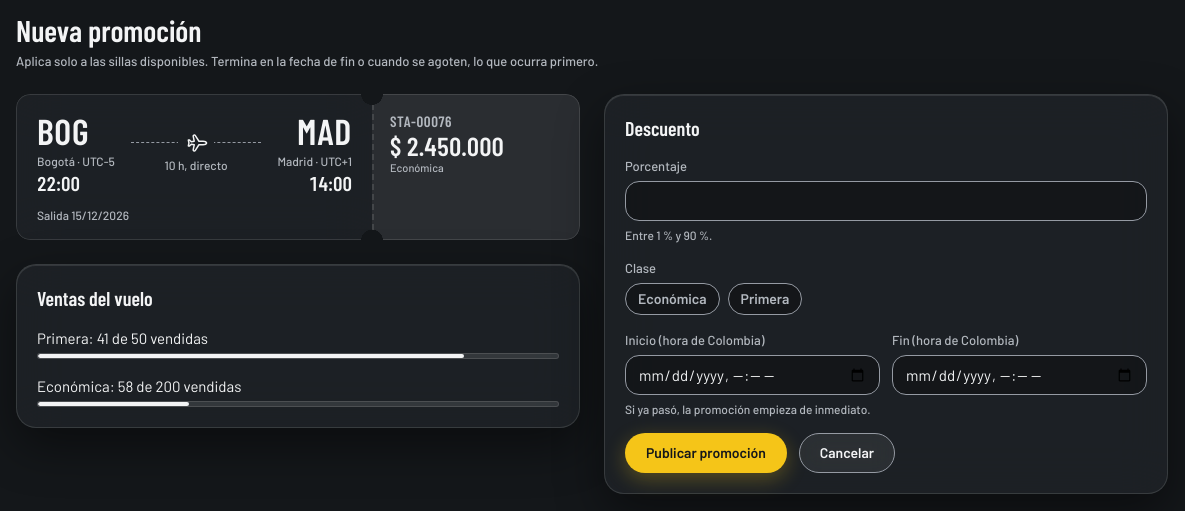
Test: S11 · Nueva promoción (HU-17) › rechaza un porcentaje de 0 junto al campo y no guarda
The image size is (1185, 511).
Check: the heading "Nueva promoción" is shown, box x1=16 y1=12 x2=202 y2=48
Type "0" into the field labelled "Porcentaje". click: (886, 201)
box: x1=625 y1=181 x2=1147 y2=221
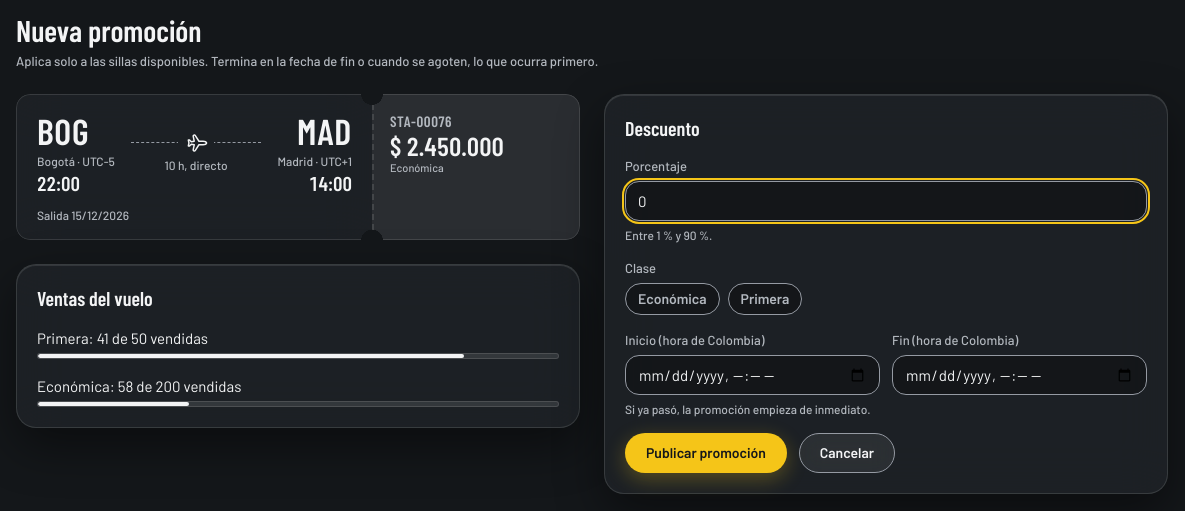
Click the button "Económica". click: (672, 299)
box: x1=625 y1=283 x2=720 y2=315
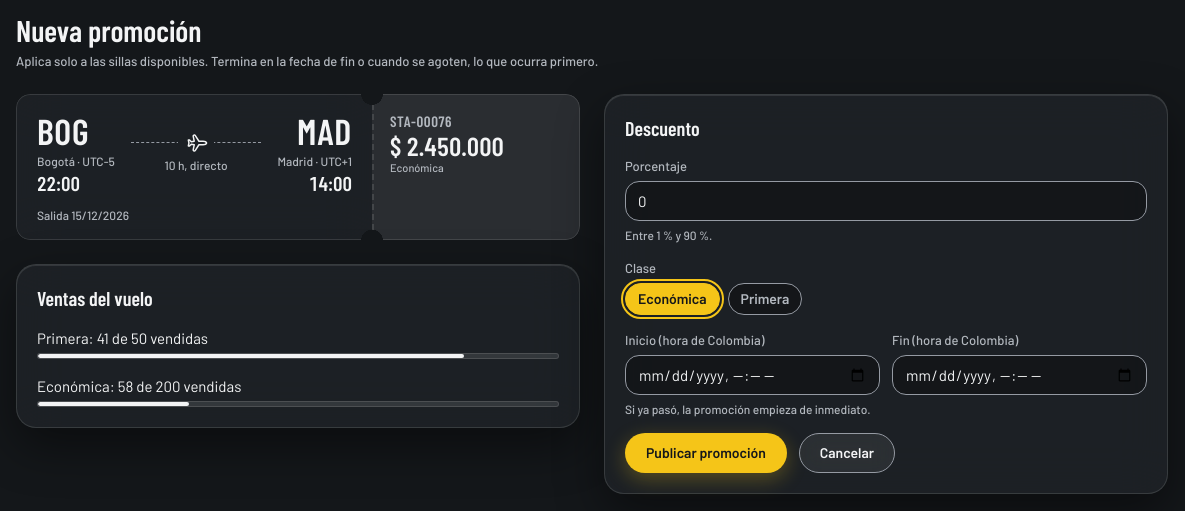
Type "2026-10-15T10:00" into the field labelled "Inicio (hora de Colombia)". click: (752, 375)
box: x1=625 y1=355 x2=880 y2=395
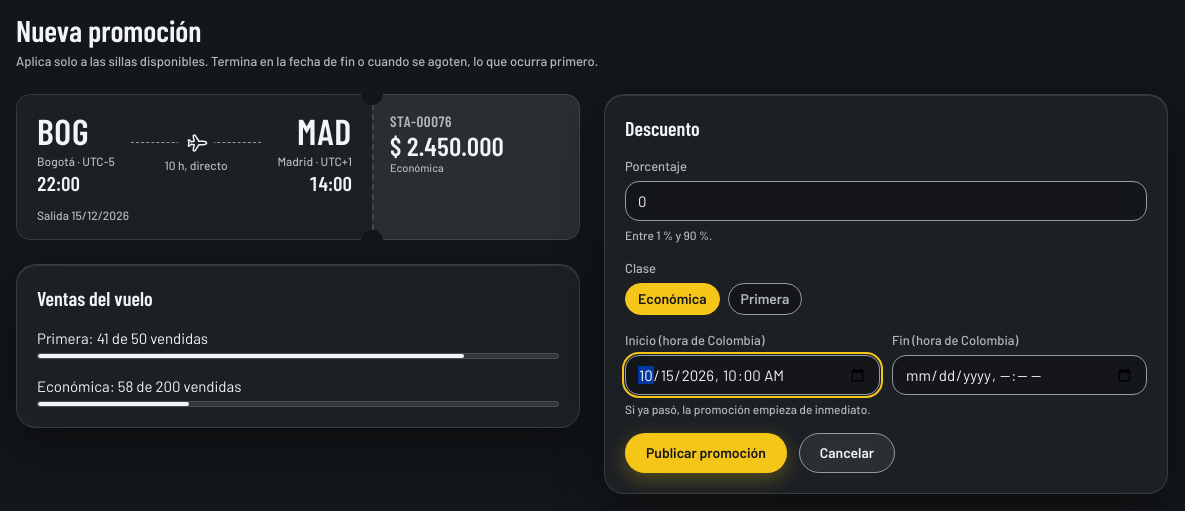
Type "2026-10-15T12:00" into the field labelled "Fin (hora de Colombia)". click: (1020, 375)
box: x1=892 y1=355 x2=1147 y2=395
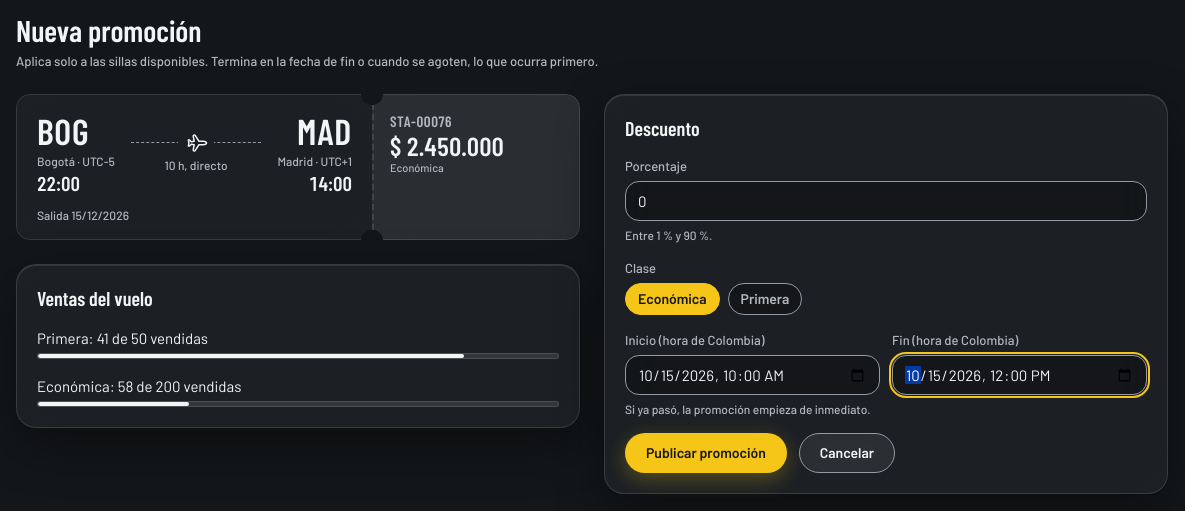
Click the button "Publicar promoción". click: (706, 453)
box: x1=625 y1=433 x2=787 y2=473
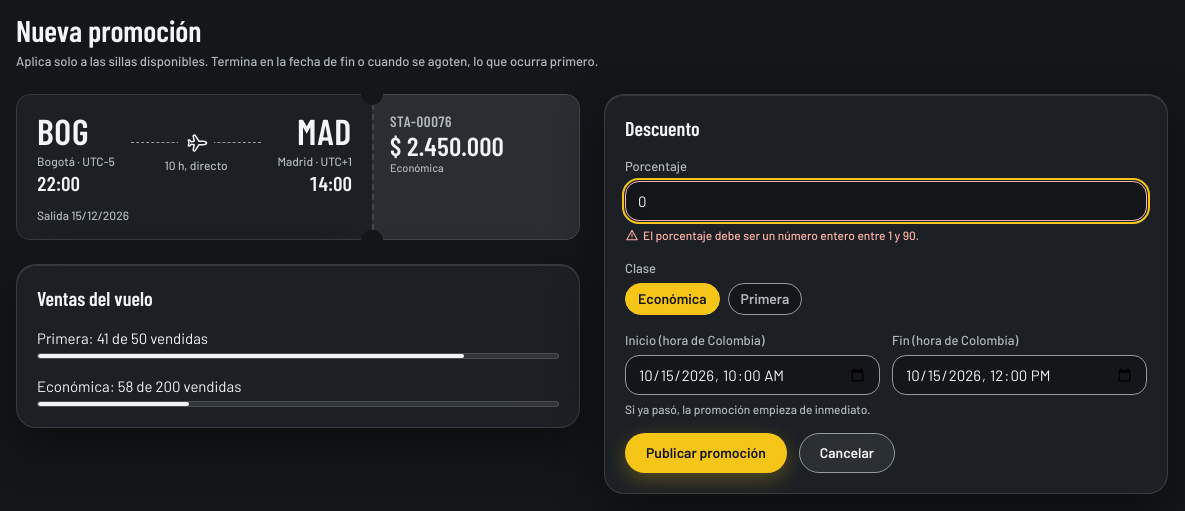
Check: the text "El porcentaje debe ser un número entero entre 1 y 90." is shown, box x1=625 y1=228 x2=919 y2=242
